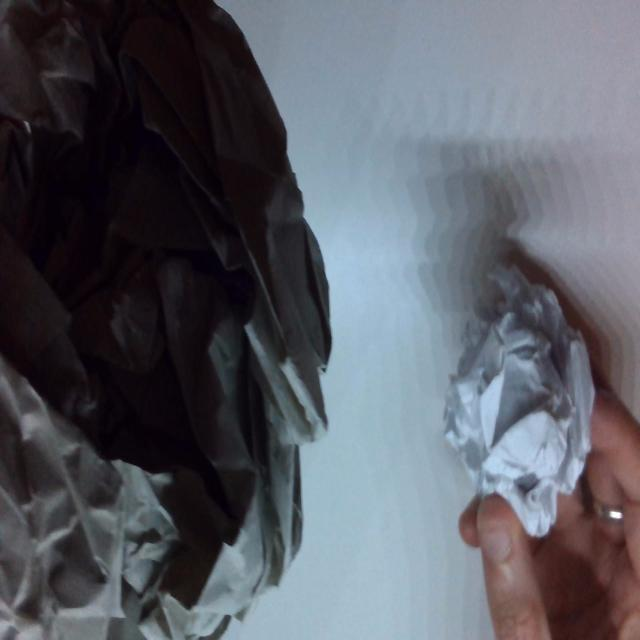Paper: (0, 1, 329, 640), (435, 267, 599, 525)
